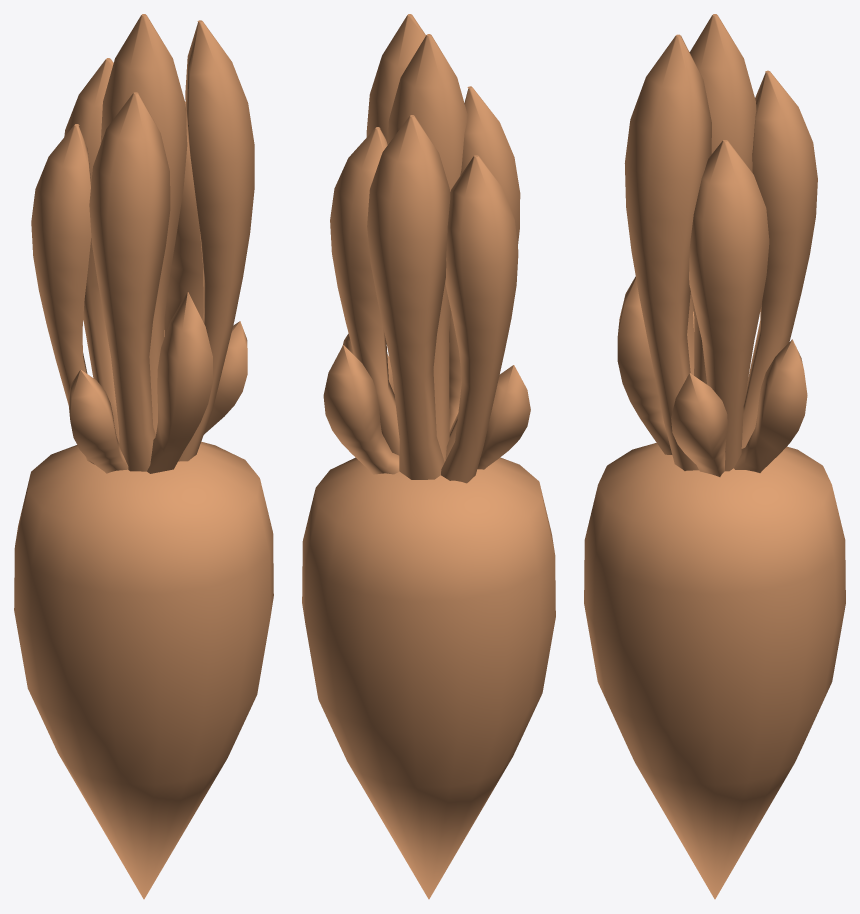
File: SM_collectibleCarrot.fbx
3 views of the same model, side by side, from view 1: azimuth 30°, elevation 25°; view 2: azimuth 150°, elevation 25°; view 3: azimuth 270°, elevation 25° (orthographic). The views are drawn at different scales.
Visible parts, largest first — view 1: SM_collectibleCarrot; view 2: SM_collectibleCarrot; view 3: SM_collectibleCarrot.
Part boxes in pixels (x1,y1,x2,y2): SM_collectibleCarrot: [14, 14, 273, 899]; SM_collectibleCarrot: [302, 14, 555, 899]; SM_collectibleCarrot: [584, 14, 845, 899].
Size of the model in its own units: 0.487 by 1.82 by 0.487.
